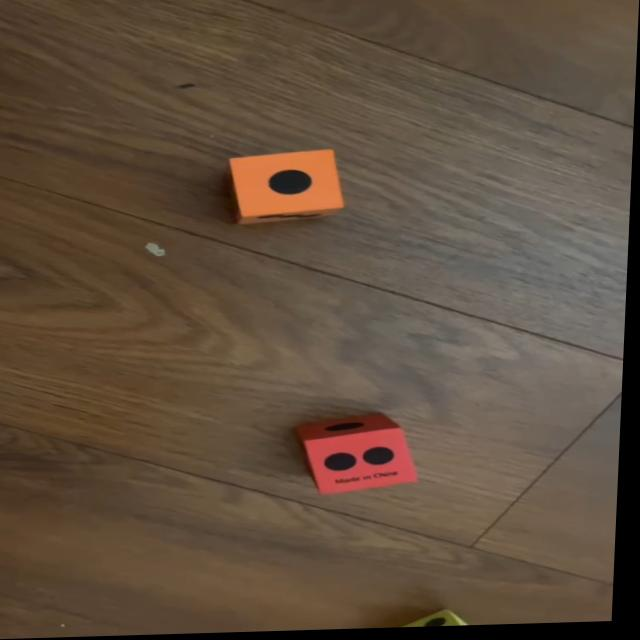red_block: (296, 414, 423, 497)
